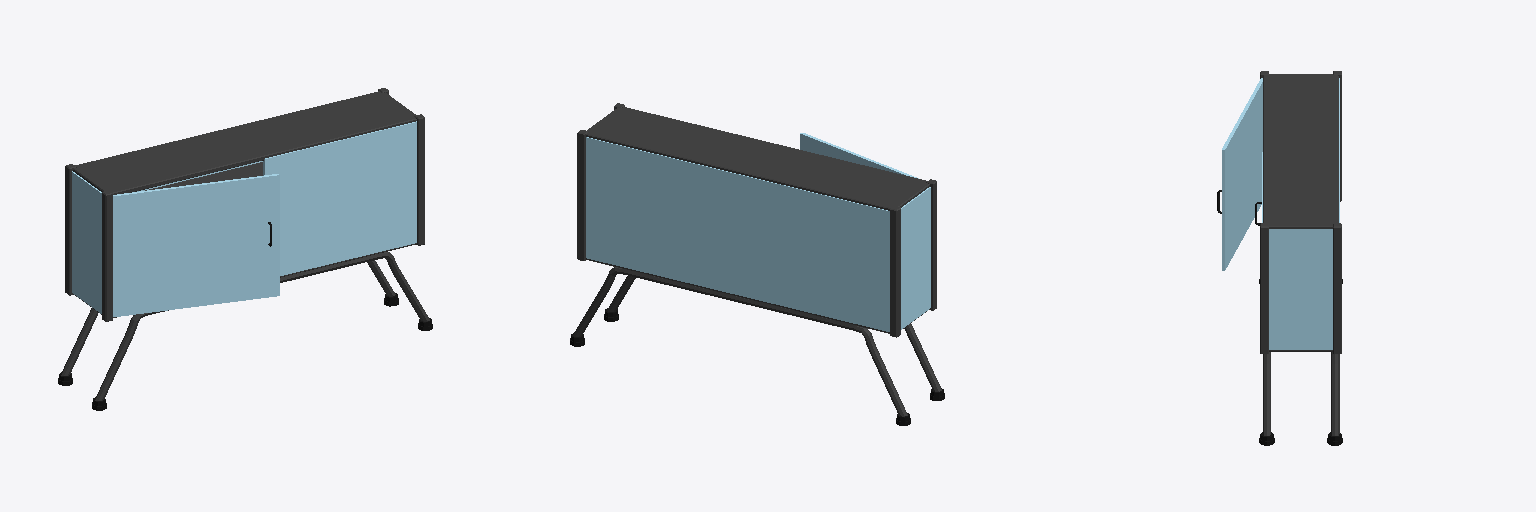
File: Shelf.obj
3 views of the same model, side by side, from view 1: azimuth 30°, elevation 25°; view 2: azimuth 150°, elevation 25°; view 3: azimuth 270°, elevation 25° (orthographic).
Visible parts, largest first — view 1: polySurface20; view 2: polySurface20; view 3: polySurface20.
Part boxes in pixels (bbox=[...]): polySurface20: bbox=[58, 88, 432, 410]; polySurface20: bbox=[570, 103, 944, 425]; polySurface20: bbox=[1217, 71, 1342, 445].
Bounding box in the file's own units: 43.95 × 26.54 × 14.1.